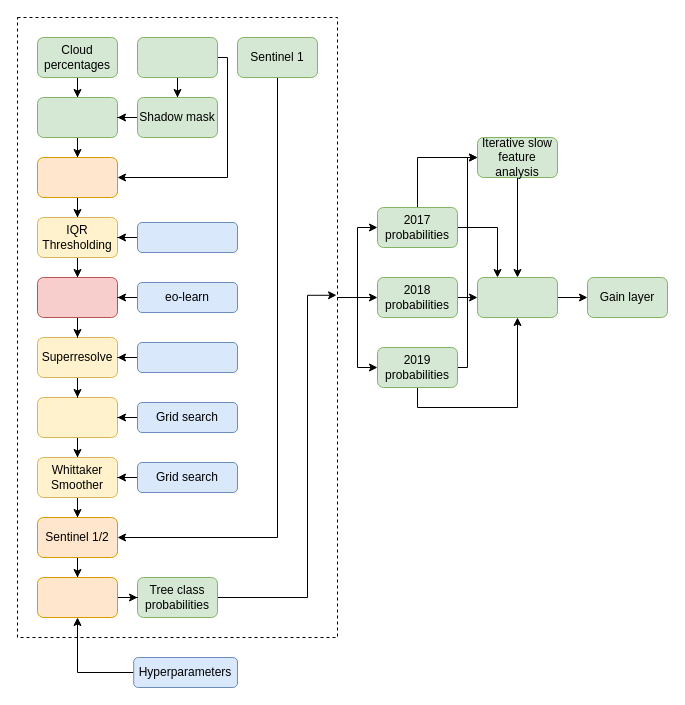
This 685x705 diagram has some shape labels left out. Here are the shapes that lost their labels. From the top down, the centre of each, then its label:
the point at 177,57: Raw Sentinel 2 Bands
the point at 77,117: Cloud + Shadow mask
the point at 77,177: Cloud-free Sentinel 2
the point at 187,237: Optimization
the point at 77,297: Coregistration
the point at 517,297: Soft bayesian fusion
the point at 187,357: FUSE Superresolution
the point at 77,417: Indices
the point at 77,597: AI Model
